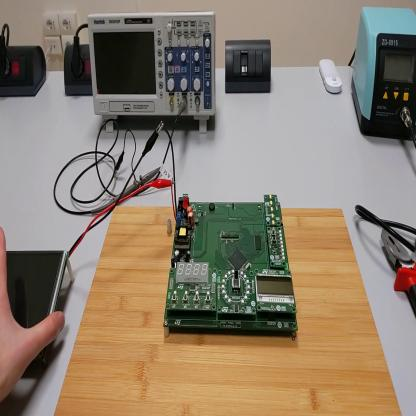hand: (2, 229, 63, 401)
low voltage board: (160, 124, 299, 339)
oscilloscope: (85, 15, 217, 137)
oscilloscope probe tip: (93, 167, 163, 216)
pliers: (380, 229, 416, 317)
socket: (2, 44, 48, 101), (66, 40, 93, 99)
welder station: (353, 10, 416, 140)
working area: (55, 205, 403, 415)
